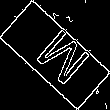M_SW: (23, 21, 87, 89)
